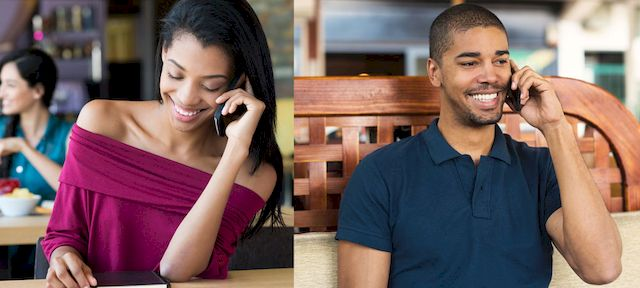phone: (216, 78, 255, 128), (507, 55, 532, 113)
talk: (162, 54, 264, 145), (447, 45, 552, 127)
